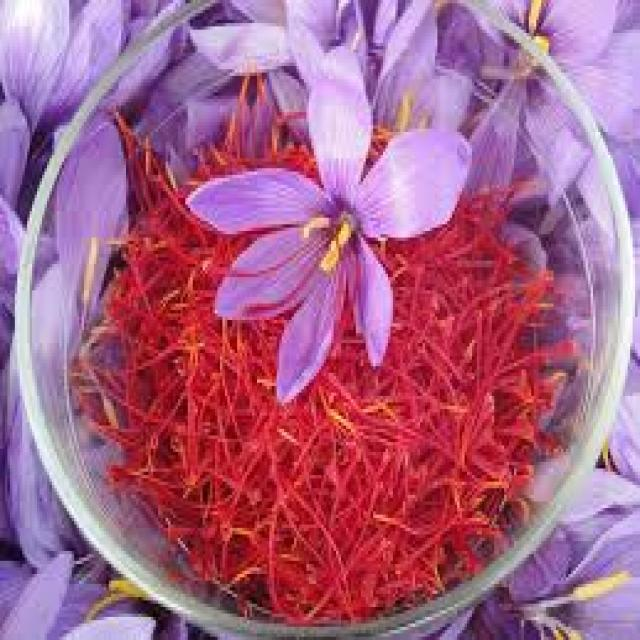Flower: (216, 58, 439, 361)
stigma: (210, 241, 317, 283), (243, 264, 320, 314)
